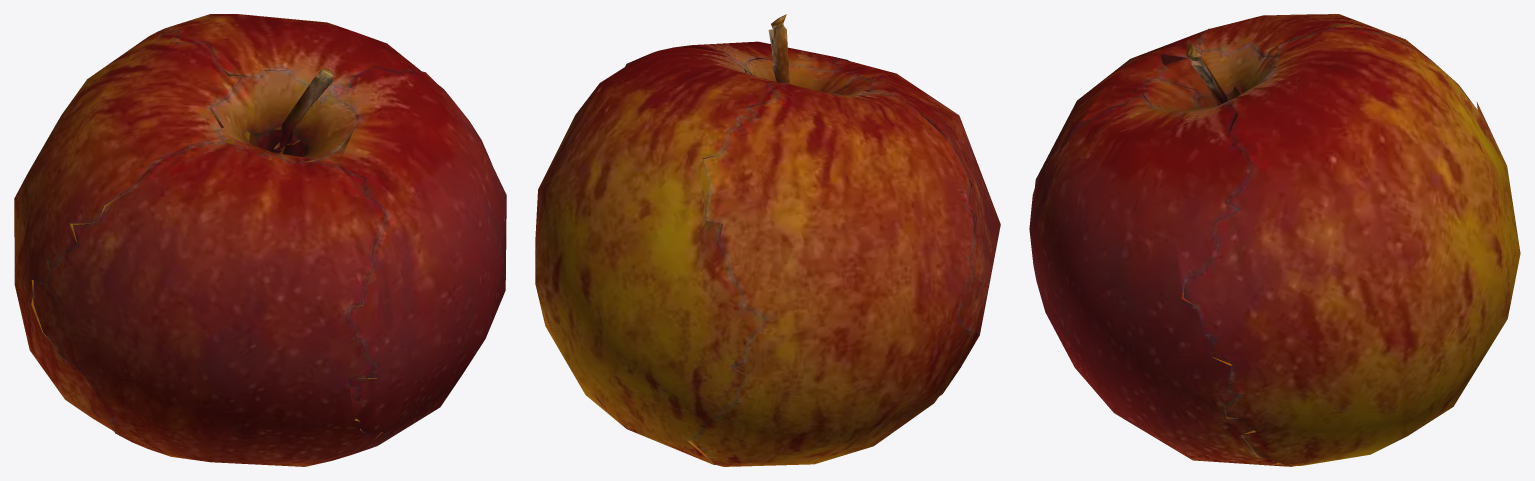
File: apples.glb
3 renders of one model, left to right at view 1: azimuth 30°, elevation 25°; view 2: azimuth 150°, elevation 25°; view 3: azimuth 270°, elevation 25°, orthographic. The views are drawn at different scales.
Visible parts, largest first — view 1: food_apple_01; view 2: food_apple_01; view 3: food_apple_01.
Boxes of the visible parts, x1,y1,x2,y2 form: food_apple_01: [14, 14, 506, 466]; food_apple_01: [535, 14, 1000, 466]; food_apple_01: [1029, 14, 1520, 466].
Bounding box in the file's own units: 0.0975 × 0.0853 × 0.0967.
Materials: 1 (1 with a texture image).
